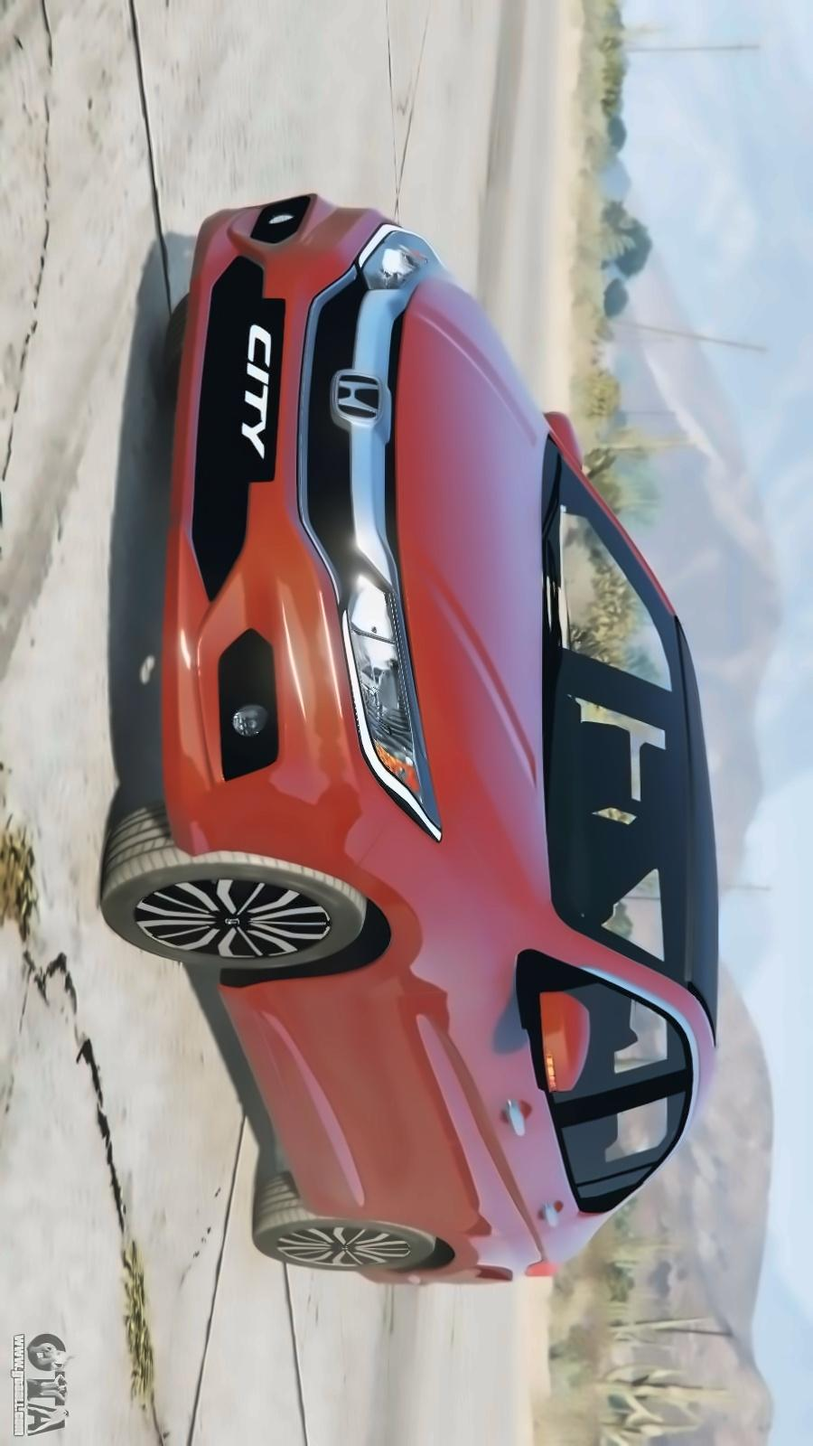Fender - -F-L-: (391, 256, 559, 913), (319, 829, 448, 1018)
Fender - -R-L-: (391, 1200, 489, 1287)
Front bumper: (154, 192, 336, 863)
Headlight - -L-: (330, 570, 446, 855)
Headlight - -R-: (355, 215, 456, 307)
Passenger-s door - -F-L-: (201, 936, 718, 1128)
Passenger-s door - -R-L-: (240, 1080, 730, 1232)
Side bumper - -L-: (213, 970, 356, 1238)
Side mirror - -L-: (529, 983, 599, 1100)
Side mirror - -R-: (524, 391, 591, 473)
